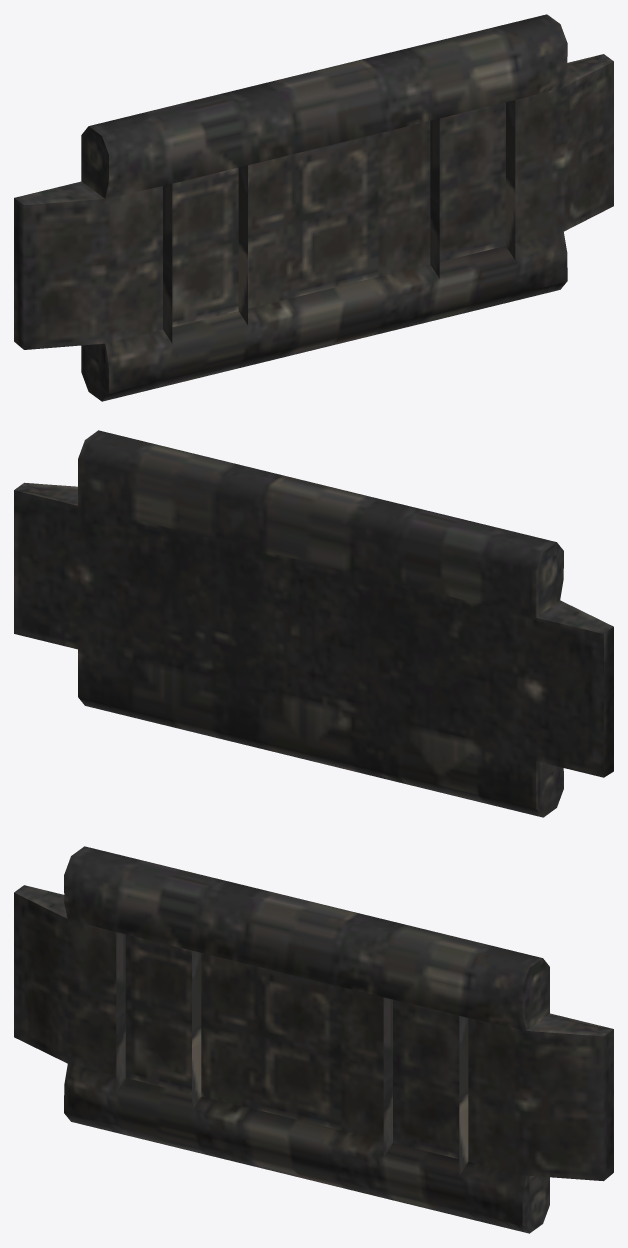
The picture shows the model from 3 angles, top to bottom: view 1: azimuth 30°, elevation 25°; view 2: azimuth 150°, elevation 25°; view 3: azimuth 330°, elevation 25°; orthographic projection.
Visible parts, largest first — view 1: set_0_group_0; view 2: set_0_group_0; view 3: set_0_group_0.
Boxes of the visible parts, box(x1,y1,x2,y2) form: set_0_group_0: box(14, 14, 613, 401); set_0_group_0: box(14, 430, 613, 817); set_0_group_0: box(14, 846, 613, 1233).
Size of the model in its own units: 0.499 by 0.2148 by 0.0484.
1 material, 1 textured.
